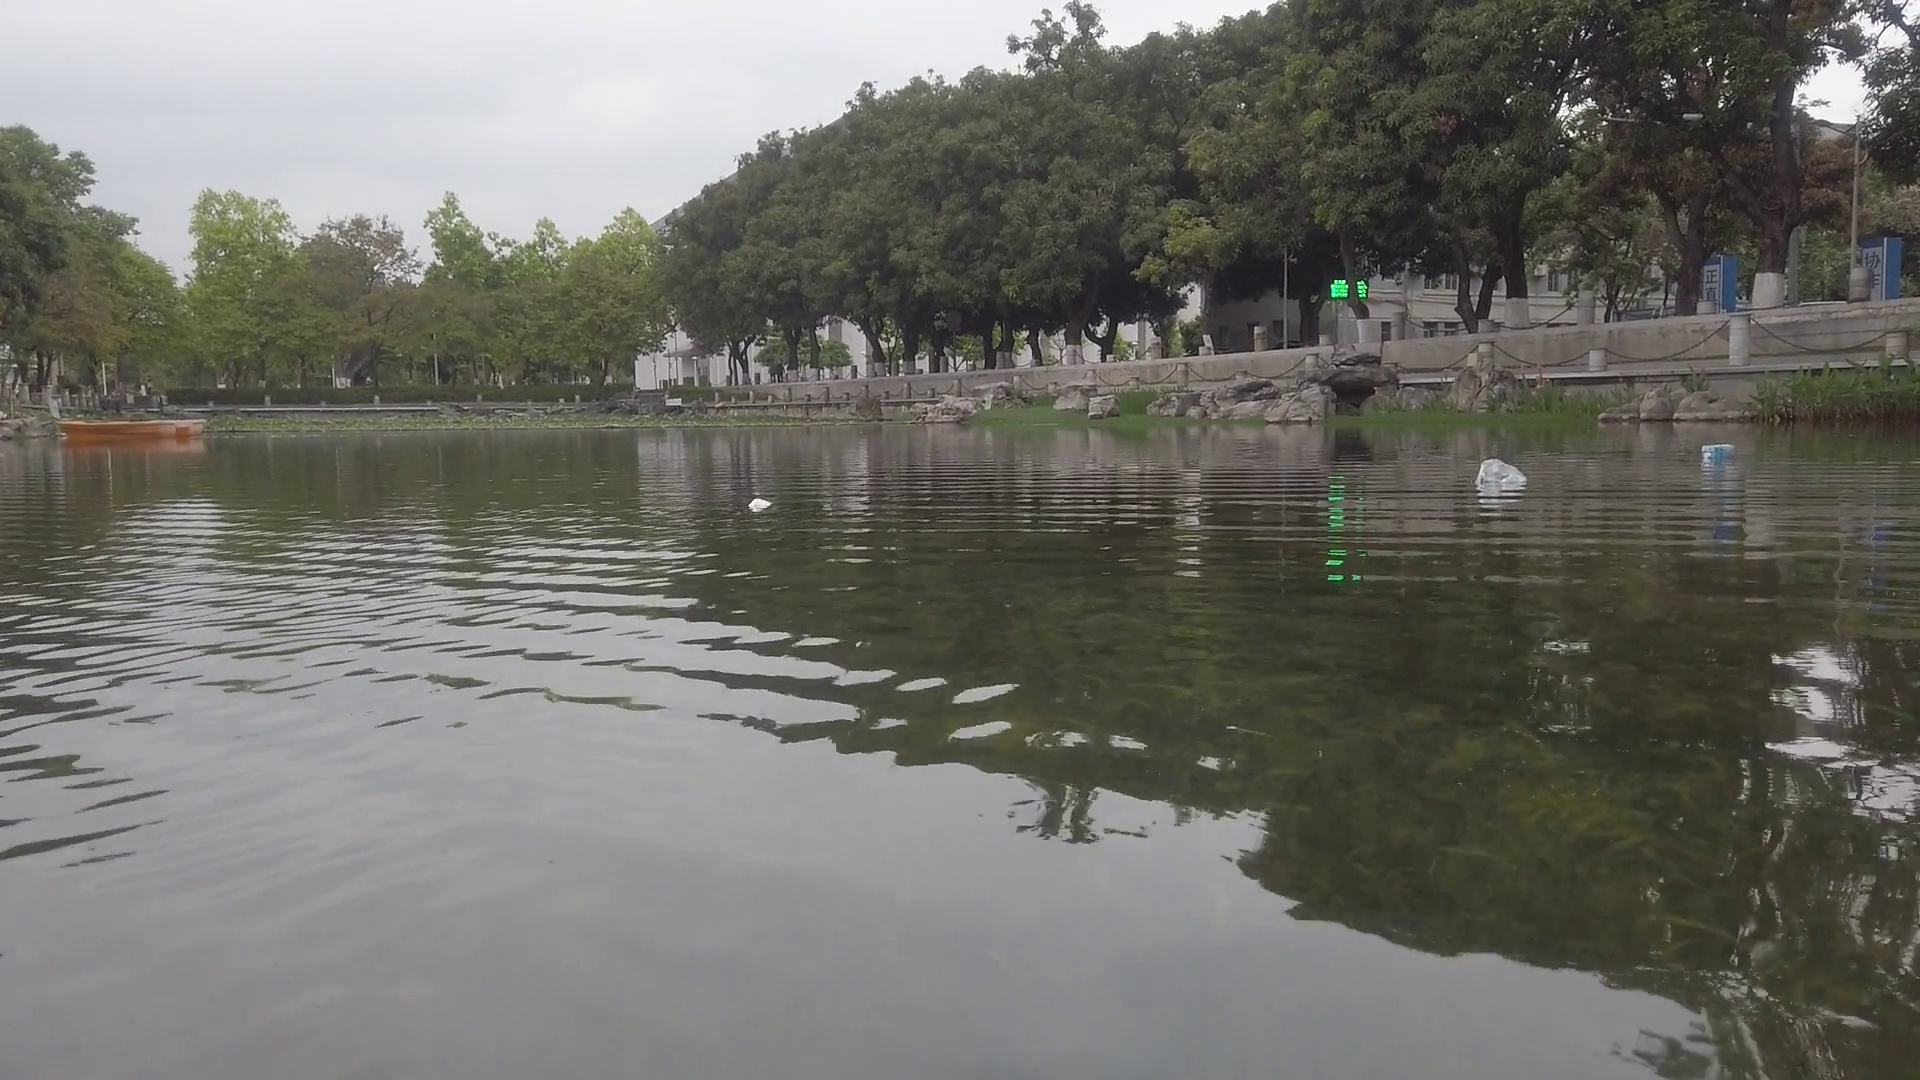carton: (1698, 444, 1741, 459)
paper: (745, 496, 775, 512)
plastic: (1478, 459, 1526, 487)
